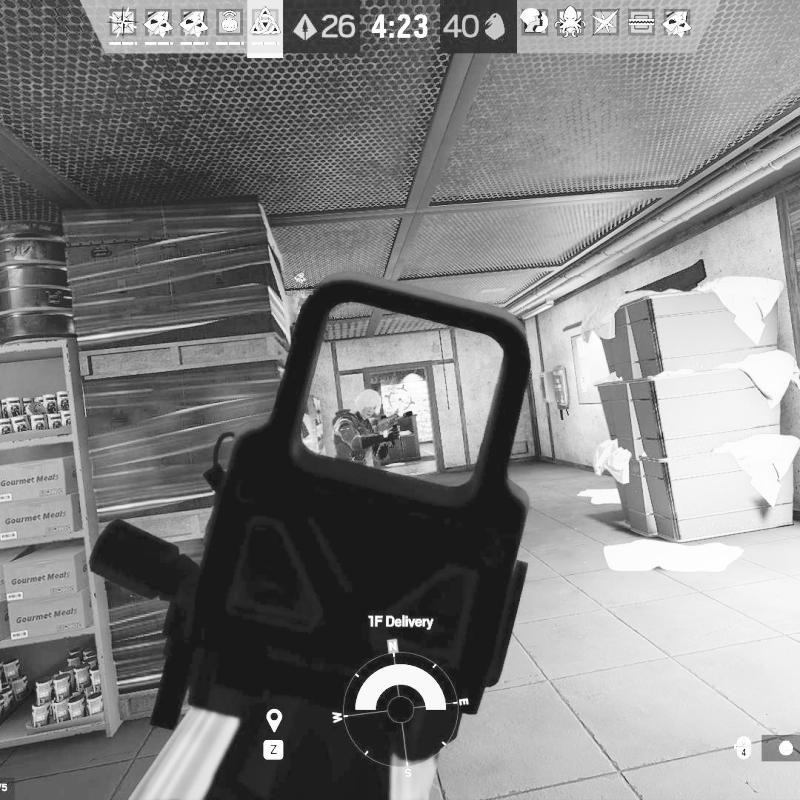Character: (330, 387, 416, 468)
Head: (355, 389, 381, 418)
